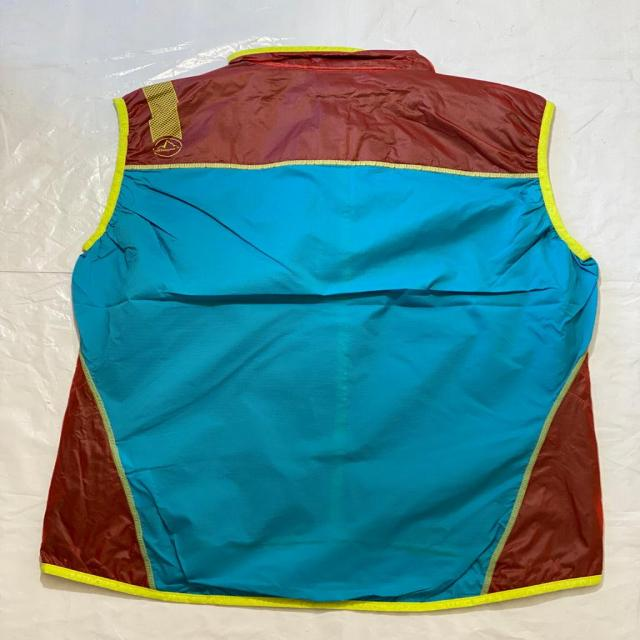Reflective-Jacket: (8, 22, 630, 640)
